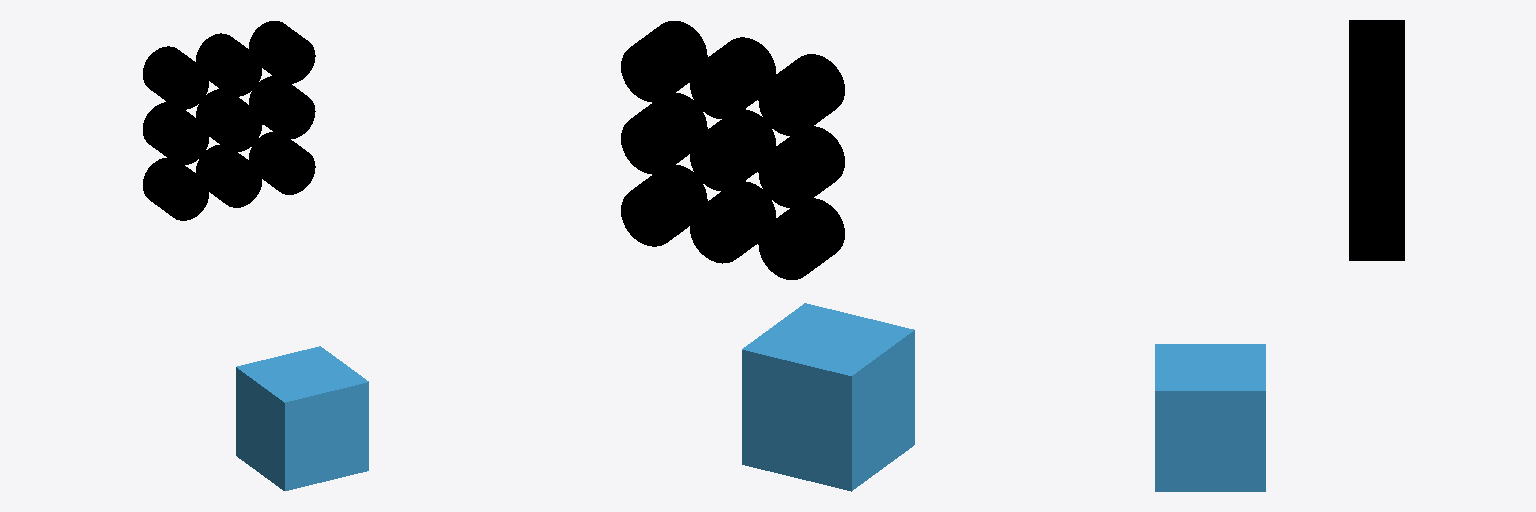
--- Render facts (derived) ---
3 views of the same robot in one strip: view 1: azimuth 30°, elevation 25°; view 2: azimuth 150°, elevation 25°; view 3: azimuth 270°, elevation 25° (orthographic).
Robot: ur5 — 21 links, 20 joints (15 revolute, 5 fixed); root link world; default pose: every joint at zero.
Links seen in each view (by area): view 1: camera_link, vacuum_gripper8, vacuum_gripper6, vacuum_gripper1, vacuum_gripper3, vacuum_gripper7, vacuum_gripper5, vacuum_gripper2, vacuum_gripper, vacuum_gripper4; view 2: camera_link, vacuum_gripper8, vacuum_gripper1, vacuum_gripper6, vacuum_gripper3, vacuum_gripper7, vacuum_gripper2, vacuum_gripper4, vacuum_gripper, vacuum_gripper5; view 3: camera_link, vacuum_gripper, vacuum_gripper5, vacuum_gripper7, vacuum_gripper8, vacuum_gripper3.
Boxes of the visible links, x1,y1,x2,y2 form: camera_link: (236,346,368,490); vacuum_gripper8: (143,46,208,109); vacuum_gripper6: (143,158,208,220); vacuum_gripper1: (143,102,208,164); vacuum_gripper3: (196,33,261,96); vacuum_gripper7: (249,21,315,83); vacuum_gripper5: (249,132,315,194); vacuum_gripper2: (196,145,261,207); vacuum_gripper: (249,76,315,138); vacuum_gripper4: (196,89,262,151); camera_link: (742,303,914,491); vacuum_gripper8: (758,54,844,135); vacuum_gripper1: (758,126,844,207); vacuum_gripper6: (758,198,844,279); vacuum_gripper3: (690,37,775,119); vacuum_gripper7: (621,21,707,102); vacuum_gripper2: (690,181,775,263); vacuum_gripper4: (690,109,775,191); vacuum_gripper: (621,93,707,174); vacuum_gripper5: (621,165,707,246); camera_link: (1155,344,1265,491); vacuum_gripper: (1349,142,1404,197); vacuum_gripper5: (1349,205,1404,260); vacuum_gripper7: (1349,79,1404,134); vacuum_gripper8: (1349,20,1404,49); vacuum_gripper3: (1349,50,1404,78).
Size in the robot's own frame: 0.035 by 0.045 by 0.0825 metres.
0 mesh visuals loaded from 7 distinct referenced files (none loaded); not drawn: 7 (reference not matched to a file when rendering).

URDF robot description (ur5):
<?xml version="1.0" encoding="utf-8"?>
<!-- =================================================================================== -->
<!-- |    This document was autogenerated by xacro from ur5_robot.urdf.xacro           | -->
<!-- |    EDITING THIS FILE BY HAND IS NOT RECOMMENDED                                 | -->
<!-- =================================================================================== -->
<robot name="ur5">
  <gazebo>
    <plugin filename="libgazebo_ros_control.so" name="ros_control">
      <!--robotNamespace>/</robotNamespace-->
      <!--robotSimType>gazebo_ros_control/DefaultRobotHWSim</robotSimType-->
    </plugin>
    <!--
    <plugin name="gazebo_ros_power_monitor_controller" filename="libgazebo_ros_power_monitor.so">
      <alwaysOn>true</alwaysOn>
      <updateRate>1.0</updateRate>
      <timeout>5</timeout>
      <powerStateTopic>power_state</powerStateTopic>
      <powerStateRate>10.0</powerStateRate>
      <fullChargeCapacity>87.78</fullChargeCapacity>     
      <dischargeRate>-474</dischargeRate>
      <chargeRate>525</chargeRate>
      <dischargeVoltage>15.52</dischargeVoltage>
      <chargeVoltage>16.41</chargeVoltage>
    </plugin>
-->
  </gazebo>
  <!-- camera_link -->
  <gazebo reference="camera_link">
    <mu1>0.2</mu1>
    <mu2>0.2</mu2>
    <material>Gazebo/Green</material>
  </gazebo>
  <!-- camera -->
  <gazebo reference="camera_link">
    <sensor name="camera1" type="depth">
      <update_rate>30.0</update_rate>
      <camera name="head">
        <horizontal_fov>1.7</horizontal_fov>
        <image>
          <width>1000</width>
          <height>1000</height>
          <format>R8G8B8</format>
        </image>
        <clip>
          <near>0.02</near>
          <far>400</far>
        </clip>
        <noise>
          <type>gaussian</type>
          <!-- Noise is sampled independently per pixel on each frame.
               That pixel's noise value is added to each of its color
               channels, which at that point lie in the range [0,1]. -->
          <mean>0.0</mean>
          <stddev>0.007</stddev>
        </noise>
      </camera>
      <plugin filename="libgazebo_ros_openni_kinect.so" name="camera_plugin">
        <baseline>0.2</baseline>
        <alwaysOn>true</alwaysOn>
        <!-- Keep this zero, update_rate in the parent <sensor> tag
            will control the frame rate. -->
        <updateRate>10.0</updateRate>
        <cameraName>camera_ir</cameraName>
        <imageTopicName>/camera/color/image_raw</imageTopicName>
        <cameraInfoTopicName>/camera/color/camera_info</cameraInfoTopicName>
        <depthImageTopicName>/camera/depth/image_raw</depthImageTopicName>
        <depthImageCameraInfoTopicName>/camera/depth/camera_info</depthImageCameraInfoTopicName>
        <pointCloudTopicName>/camera/depth/points</pointCloudTopicName>
        <frameName>camera_link_optical</frameName>
        <pointCloudCutoff>0.5</pointCloudCutoff>
        <pointCloudCutoffMax>3.0</pointCloudCutoffMax>
        <distortionK1>0</distortionK1>
        <distortionK2>0</distortionK2>
        <distortionK3>0</distortionK3>
        <distortionT1>0</distortionT1>
        <distortionT2>0</distortionT2>
        <CxPrime>0</CxPrime>
        <Cx>0</Cx>
        <Cy>0</Cy>
        <focalLength>0</focalLength>
        <hackBaseline>0</hackBaseline>
      </plugin>
    </sensor>
  </gazebo>

  <!-- camera_link -->
   <!-- measured from model -->
  <!--property name="shoulder_height" value="0.089159" /-->
  <!--property name="shoulder_offset" value="0.13585" /-->
  <!-- shoulder_offset - elbow_offset + wrist_1_length = 0.10915 -->
  <!--property name="upper_arm_length" value="0.42500" /-->
  <!--property name="elbow_offset" value="0.1197" /-->
  <!-- CAD measured -->
  <!--property name="forearm_length" value="0.39225" /-->
  <!--property name="wrist_1_length" value="0.093" /-->
  <!-- CAD measured -->
  <!--property name="wrist_2_length" value="0.09465" /-->
  <!-- In CAD this distance is 0.930, but in the spec it is 0.09465 -->
  <!--property name="wrist_3_length" value="0.0823" /-->
  <!-- manually measured -->
  <link name="base_link">
    <visual>
      <geometry>
        <mesh filename="package://ur5_description/meshes/ur5/visual/base.dae"/>
      </geometry>
      <material name="LightGrey">
        <color rgba="0.7 0.7 0.7 1.0"/>
      </material>
    </visual>
    <collision>
      <geometry>
        <mesh filename="package://ur5_description/meshes/ur5/collision/base.stl"/>
      </geometry>
    </collision>
    <inertial>
      <mass value="4.0"/>
      <origin rpy="0 0 0" xyz="0.0 0.0 0.0"/>
      <inertia ixx="0.00443333156" ixy="0.0" ixz="0.0" iyy="0.00443333156" iyz="0.0" izz="0.0072"/>
    </inertial>
  </link>
  <joint name="shoulder_pan_joint" type="revolute">
    <parent link="base_link"/>
    <child link="shoulder_link"/>
    <origin rpy="0.0 0.0 0.0" xyz="0.0 0.0 0.089159"/>
    <axis xyz="0 0 1"/>
    <limit effort="150.0" lower="-6.28318530718" upper="6.28318530718" velocity="3.15"/>
    <dynamics damping="0.0" friction="0.0"/>
  </joint>
  <link name="shoulder_link">
    <visual>
      <geometry>
        <mesh filename="package://ur5_description/meshes/ur5/visual/shoulder.dae"/>
      </geometry>
      <material name="LightGrey">
        <color rgba="0.7 0.7 0.7 1.0"/>
      </material>
    </visual>
    <collision>
      <geometry>
        <mesh filename="package://ur5_description/meshes/ur5/collision/shoulder.stl"/>
      </geometry>
    </collision>
    <inertial>
      <mass value="3.7"/>
      <origin rpy="0 0 0" xyz="0.0 0.0 0.0"/>
      <inertia ixx="0.010267495893" ixy="0.0" ixz="0.0" iyy="0.010267495893" iyz="0.0" izz="0.00666"/>
    </inertial>
  </link>
  <joint name="shoulder_lift_joint" type="revolute">
    <parent link="shoulder_link"/>
    <child link="upper_arm_link"/>
    <origin rpy="0.0 1.57079632679 0.0" xyz="0.0 0.13585 0.0"/>
    <axis xyz="0 1 0"/>
    <limit effort="150.0" lower="-6.28318530718" upper="6.28318530718" velocity="3.15"/>
    <dynamics damping="0.0" friction="0.0"/>
  </joint>
  <link name="upper_arm_link">
    <visual>
      <geometry>
        <mesh filename="package://ur5_description/meshes/ur5/visual/upperarm.dae"/>
      </geometry>
      <material name="LightGrey">
        <color rgba="0.7 0.7 0.7 1.0"/>
      </material>
    </visual>
    <collision>
      <geometry>
        <mesh filename="package://ur5_description/meshes/ur5/collision/upperarm.stl"/>
      </geometry>
    </collision>
    <inertial>
      <mass value="8.393"/>
      <origin rpy="0 0 0" xyz="0.0 0.0 0.28"/>
      <inertia ixx="0.22689067591" ixy="0.0" ixz="0.0" iyy="0.22689067591" iyz="0.0" izz="0.0151074"/>
    </inertial>
  </link>
  <joint name="elbow_joint" type="revolute">
    <parent link="upper_arm_link"/>
    <child link="forearm_link"/>
    <origin rpy="0.0 0.0 0.0" xyz="0.0 -0.1197 0.425"/>
    <axis xyz="0 1 0"/>
    <limit effort="150.0" lower="-3.14159265359" upper="3.14159265359" velocity="3.15"/>
    <dynamics damping="0.0" friction="0.0"/>
  </joint>
  <link name="forearm_link">
    <visual>
      <geometry>
        <mesh filename="package://ur5_description/meshes/ur5/visual/forearm.dae"/>
      </geometry>
      <material name="LightGrey">
        <color rgba="0.7 0.7 0.7 1.0"/>
      </material>
    </visual>
    <collision>
      <geometry>
        <mesh filename="package://ur5_description/meshes/ur5/collision/forearm.stl"/>
      </geometry>
    </collision>
    <inertial>
      <mass value="2.275"/>
      <origin rpy="0 0 0" xyz="0.0 0.0 0.25"/>
      <inertia ixx="0.049443313556" ixy="0.0" ixz="0.0" iyy="0.049443313556" iyz="0.0" izz="0.004095"/>
    </inertial>
  </link>
  <joint name="wrist_1_joint" type="revolute">
    <parent link="forearm_link"/>
    <child link="wrist_1_link"/>
    <origin rpy="0.0 1.57079632679 0.0" xyz="0.0 0.0 0.39225"/>
    <axis xyz="0 1 0"/>
    <limit effort="28.0" lower="-6.28318530718" upper="6.28318530718" velocity="3.2"/>
    <dynamics damping="0.0" friction="0.0"/>
  </joint>
  <link name="wrist_1_link">
    <visual>
      <geometry>
        <mesh filename="package://ur5_description/meshes/ur5/visual/wrist1.dae"/>
      </geometry>
      <material name="LightGrey">
        <color rgba="0.7 0.7 0.7 1.0"/>
      </material>
    </visual>
    <collision>
      <geometry>
        <mesh filename="package://ur5_description/meshes/ur5/collision/wrist1.stl"/>
      </geometry>
    </collision>
    <inertial>
      <mass value="1.219"/>
      <origin rpy="0 0 0" xyz="0.0 0.0 0.0"/>
      <inertia ixx="0.111172755531" ixy="0.0" ixz="0.0" iyy="0.111172755531" iyz="0.0" izz="0.21942"/>
    </inertial>
  </link>
  <joint name="wrist_2_joint" type="revolute">
    <parent link="wrist_1_link"/>
    <child link="wrist_2_link"/>
    <origin rpy="0.0 0.0 0.0" xyz="0.0 0.093 0.0"/>
    <axis xyz="0 0 1"/>
    <limit effort="28.0" lower="-6.28318530718" upper="6.28318530718" velocity="3.2"/>
    <dynamics damping="0.0" friction="0.0"/>
  </joint>
  <link name="wrist_2_link">
    <visual>
      <geometry>
        <mesh filename="package://ur5_description/meshes/ur5/visual/wrist2.dae"/>
      </geometry>
      <material name="LightGrey">
        <color rgba="0.7 0.7 0.7 1.0"/>
      </material>
    </visual>
    <collision>
      <geometry>
        <mesh filename="package://ur5_description/meshes/ur5/collision/wrist2.stl"/>
      </geometry>
    </collision>
    <inertial>
      <mass value="1.219"/>
      <origin rpy="0 0 0" xyz="0.0 0.0 0.0"/>
      <inertia ixx="0.111172755531" ixy="0.0" ixz="0.0" iyy="0.111172755531" iyz="0.0" izz="0.21942"/>
    </inertial>
  </link>
  <joint name="wrist_3_joint" type="revolute">
    <parent link="wrist_2_link"/>
    <child link="wrist_3_link"/>
    <origin rpy="0.0 0.0 0.0" xyz="0.0 0.0 0.09465"/>
    <axis xyz="0 1 0"/>
    <limit effort="28.0" lower="-6.28318530718" upper="6.28318530718" velocity="3.2"/>
    <dynamics damping="0.0" friction="0.0"/>
  </joint>
  <link name="wrist_3_link">
    <visual>
      <geometry>
        <mesh filename="package://ur5_description/meshes/ur5/visual/wrist3.dae"/>
      </geometry>
      <material name="LightGrey">
        <color rgba="0.7 0.7 0.7 1.0"/>
      </material>
    </visual>
    <collision>
      <geometry>
        <mesh filename="package://ur5_description/meshes/ur5/collision/wrist3.stl"/>
      </geometry>
    </collision>
    <inertial>
      <mass value="0.1879"/>
      <origin rpy="0 0 0" xyz="0.0 0.0 0.0"/>
      <inertia ixx="0.0171364731454" ixy="0.0" ixz="0.0" iyy="0.0171364731454" iyz="0.0" izz="0.033822"/>
    </inertial>
  </link>
  <joint name="ee_fixed_joint" type="fixed">
    <parent link="wrist_3_link"/>
    <child link="ee_link"/>
    <origin rpy="0.0 0.0 1.57079632679" xyz="0.0 0.0823 0.0"/>
  </joint>
  <link name="ee_link">
    <collision>
      <geometry>
        <box size="0.01 0.01 0.01"/>
      </geometry>
      <origin rpy="0 0 0" xyz="-0.01 0 0"/>
    </collision>
  </link>
  <link name="vacuum_gripper">
    <gravity>0</gravity>
    <visual>
      <origin rpy="0 0 0" xyz="0 0 0"/>
      <geometry>
        <cylinder length="0.01" radius="0.005"/>
      </geometry>
      <material name="transparent">
        <color rgba="0 0 0 0"/>
      </material>
    </visual>
    <inertial>
      <origin rpy="0 0 0" xyz="0.000000 0.000000 0.000000"/>
      <mass value="0.0001"/>
      <inertia ixx="1e-08" ixy="0" ixz="0" iyy="1e-08" iyz="0" izz="1e-08"/>
    </inertial>
  </link>
  <joint name="gripper_joint" type="revolute">
    <axis xyz="1 0 0"/>
    <parent link="ee_link"/>
    <child link="vacuum_gripper"/>
    <origin rpy="0 1.5708 0" xyz="0.01 0.0125 0"/>
    <limit effort="50" lower="0" upper="0" velocity="50"/>
    <dynamics damping="0.0" friction="10"/>
  </joint>
  <gazebo>
    <plugin filename="libgazebo_ros_vacuum_gripper.so" name="gazebo_ros_vacuum_gripper">
      <robotNamespace>/ur5/vacuum_gripper</robotNamespace>
      <bodyName>vacuum_gripper</bodyName>
      <topicName>grasping</topicName>
      <maxForce>50</maxForce>
      <maxDistance>0.05</maxDistance>
      <minDistance>0.01</minDistance>
    </plugin>
  </gazebo>
  <link name="vacuum_gripper1">
    <gravity>0</gravity>
    <visual>
      <origin rpy="0 0 0" xyz="0 0 0"/>
      <geometry>
        <cylinder length="0.01" radius="0.005"/>
      </geometry>
      <material name="transparent">
        <color rgba="0 0 0 0"/>
      </material>
    </visual>
    <inertial>
      <origin rpy="0 0 0" xyz="0.000000 0.000000 0.000000"/>
      <mass value="0.0001"/>
      <inertia ixx="1e-08" ixy="0" ixz="0" iyy="1e-08" iyz="0" izz="1e-08"/>
    </inertial>
  </link>
  <joint name="gripper_joint1" type="revolute">
    <axis xyz="1 0 0"/>
    <parent link="ee_link"/>
    <child link="vacuum_gripper1"/>
    <origin rpy="0 1.5708 0" xyz="0.01 -0.0125 0"/>
    <limit effort="50" lower="0" upper="0" velocity="50"/>
    <dynamics damping="0.0" friction="10"/>
  </joint>
  <gazebo>
    <plugin filename="libgazebo_ros_vacuum_gripper.so" name="gazebo_ros_vacuum_gripper1">
      <robotNamespace>/ur5/vacuum_gripper1</robotNamespace>
      <bodyName>vacuum_gripper1</bodyName>
      <topicName>grasping1</topicName>
      <maxForce>50</maxForce>
      <maxDistance>0.05</maxDistance>
      <minDistance>0.01</minDistance>
    </plugin>
  </gazebo>
  <link name="vacuum_gripper2">
    <gravity>0</gravity>
    <visual>
      <origin rpy="0 0 0" xyz="0 0 0"/>
      <geometry>
        <cylinder length="0.01" radius="0.005"/>
      </geometry>
      <material name="transparent">
        <color rgba="0 0 0 0"/>
      </material>
    </visual>
    <inertial>
      <origin rpy="0 0 0" xyz="0.000000 0.000000 0.000000"/>
      <mass value="0.0001"/>
      <inertia ixx="1e-08" ixy="0" ixz="0" iyy="1e-08" iyz="0" izz="1e-08"/>
    </inertial>
  </link>
  <joint name="gripper_joint2" type="revolute">
    <axis xyz="1 0 0"/>
    <parent link="ee_link"/>
    <child link="vacuum_gripper2"/>
    <origin rpy="0 1.5708 0" xyz="0.01 0 0.0125"/>
    <limit effort="50" lower="0" upper="0" velocity="50"/>
    <dynamics damping="0.0" friction="10"/>
  </joint>
  <gazebo>
    <plugin filename="libgazebo_ros_vacuum_gripper.so" name="gazebo_ros_vacuum_gripper2">
      <robotNamespace>/ur5/vacuum_gripper2</robotNamespace>
      <bodyName>vacuum_gripper2</bodyName>
      <topicName>grasping2</topicName>
      <maxForce>50</maxForce>
      <maxDistance>0.05</maxDistance>
      <minDistance>0.01</minDistance>
    </plugin>
  </gazebo>
  <link name="vacuum_gripper3">
    <gravity>0</gravity>
    <visual>
      <origin rpy="0 0 0" xyz="0 0 0"/>
      <geometry>
        <cylinder length="0.01" radius="0.005"/>
      </geometry>
      <material name="transparent">
        <color rgba="0 0 0 0"/>
      </material>
    </visual>
    <inertial>
      <origin rpy="0 0 0" xyz="0.000000 0.000000 0.000000"/>
      <mass value="0.0001"/>
      <inertia ixx="1e-08" ixy="0" ixz="0" iyy="1e-08" iyz="0" izz="1e-08"/>
    </inertial>
  </link>
  <joint name="gripper_joint3" type="revolute">
    <axis xyz="1 0 0"/>
    <parent link="ee_link"/>
    <child link="vacuum_gripper3"/>
    <origin rpy="0 1.5708 0" xyz="0.01 0 -0.0125"/>
    <limit effort="50" lower="0" upper="0" velocity="50"/>
    <dynamics damping="0.0" friction="10"/>
  </joint>
  <gazebo>
    <plugin filename="libgazebo_ros_vacuum_gripper.so" name="gazebo_ros_vacuum_gripper3">
      <robotNamespace>/ur5/vacuum_gripper3</robotNamespace>
      <bodyName>vacuum_gripper3</bodyName>
      <topicName>grasping2</topicName>
      <maxForce>50</maxForce>
      <maxDistance>0.05</maxDistance>
      <minDistance>0.01</minDistance>
    </plugin>
  </gazebo>
  <link name="vacuum_gripper4">
    <gravity>0</gravity>
    <visual>
      <origin rpy="0 0 0" xyz="0 0 0"/>
      <geometry>
        <cylinder length="0.01" radius="0.005"/>
      </geometry>
      <material name="transparent">
        <color rgba="0 0 0 0"/>
      </material>
    </visual>
    <inertial>
      <origin rpy="0 0 0" xyz="0.000000 0.000000 0.000000"/>
      <mass value="0.0001"/>
      <inertia ixx="1e-08" ixy="0" ixz="0" iyy="1e-08" iyz="0" izz="1e-08"/>
    </inertial>
  </link>
  <joint name="gripper_joint4" type="revolute">
    <axis xyz="1 0 0"/>
    <parent link="ee_link"/>
    <child link="vacuum_gripper4"/>
    <origin rpy="0 1.5708 0" xyz="0.01 0 0"/>
    <limit effort="50" lower="0" upper="0" velocity="50"/>
    <dynamics damping="0.0" friction="10"/>
  </joint>
  <gazebo>
    <plugin filename="libgazebo_ros_vacuum_gripper.so" name="gazebo_ros_vacuum_gripper4">
      <robotNamespace>/ur5/vacuum_gripper4</robotNamespace>
      <bodyName>vacuum_gripper4</bodyName>
      <topicName>grasping4</topicName>
      <maxForce>50</maxForce>
      <maxDistance>0.05</maxDistance>
      <minDistance>0.01</minDistance>
    </plugin>
  </gazebo>
  <link name="vacuum_gripper5">
    <gravity>0</gravity>
    <visual>
      <origin rpy="0 0 0" xyz="0 0 0"/>
      <geometry>
        <cylinder length="0.01" radius="0.005"/>
      </geometry>
      <material name="transparent">
        <color rgba="0 0 0 0"/>
      </material>
    </visual>
    <inertial>
      <origin rpy="0 0 0" xyz="0.000000 0.000000 0.000000"/>
      <mass value="0.0001"/>
      <inertia ixx="1e-08" ixy="0" ixz="0" iyy="1e-08" iyz="0" izz="1e-08"/>
    </inertial>
  </link>
  <joint name="gripper_joint5" type="revolute">
    <axis xyz="1 0 0"/>
    <parent link="ee_link"/>
    <child link="vacuum_gripper5"/>
    <origin rpy="0 1.5708 0" xyz="0.01 0.0125 0.0125"/>
    <limit effort="50" lower="0" upper="0" velocity="50"/>
    <dynamics damping="0.0" friction="10"/>
  </joint>
  <gazebo>
    <plugin filename="libgazebo_ros_vacuum_gripper.so" name="gazebo_ros_vacuum_gripper">
      <robotNamespace>/ur5/vacuum_gripper5</robotNamespace>
      <bodyName>vacuum_gripper5</bodyName>
      <topicName>grasping5</topicName>
      <maxForce>50</maxForce>
      <maxDistance>0.05</maxDistance>
      <minDistance>0.01</minDistance>
    </plugin>
  </gazebo>
  <link name="vacuum_gripper6">
    <gravity>0</gravity>
    <visual>
      <origin rpy="0 0 0" xyz="0 0 0"/>
      <geometry>
        <cylinder length="0.01" radius="0.005"/>
      </geometry>
      <material name="transparent">
        <color rgba="0 0 0 0"/>
      </material>
    </visual>
    <inertial>
      <origin rpy="0 0 0" xyz="0.000000 0.000000 0.000000"/>
      <mass value="0.0001"/>
      <inertia ixx="1e-08" ixy="0" ixz="0" iyy="1e-08" iyz="0" izz="1e-08"/>
    </inertial>
  </link>
  <joint name="gripper_joint6" type="revolute">
    <axis xyz="1 0 0"/>
    <parent link="ee_link"/>
    <child link="vacuum_gripper6"/>
    <origin rpy="0 1.5708 0" xyz="0.01 -0.0125 0.0125"/>
    <limit effort="50" lower="0" upper="0" velocity="50"/>
    <dynamics damping="0.0" friction="10"/>
  </joint>
  <gazebo>
    <plugin filename="libgazebo_ros_vacuum_gripper.so" name="gazebo_ros_vacuum_gripper1">
      <robotNamespace>/ur5/vacuum_gripper6</robotNamespace>
      <bodyName>vacuum_gripper6</bodyName>
      <topicName>grasping6</topicName>
      <maxForce>50</maxForce>
      <maxDistance>0.05</maxDistance>
      <minDistance>0.01</minDistance>
    </plugin>
  </gazebo>
  <link name="vacuum_gripper7">
    <gravity>0</gravity>
    <visual>
      <origin rpy="0 0 0" xyz="0 0 0"/>
      <geometry>
        <cylinder length="0.01" radius="0.005"/>
      </geometry>
      <material name="transparent">
        <color rgba="0 0 0 0"/>
      </material>
    </visual>
    <inertial>
      <origin rpy="0 0 0" xyz="0.000000 0.000000 0.000000"/>
      <mass value="0.0001"/>
      <inertia ixx="1e-08" ixy="0" ixz="0" iyy="1e-08" iyz="0" izz="1e-08"/>
    </inertial>
  </link>
  <joint name="gripper_joint7" type="revolute">
    <axis xyz="1 0 0"/>
    <parent link="ee_link"/>
    <child link="vacuum_gripper7"/>
    <origin rpy="0 1.5708 0" xyz="0.01 0.0125 -0.0125"/>
    <limit effort="50" lower="0" upper="0" velocity="50"/>
    <dynamics damping="0.0" friction="10"/>
  </joint>
  <gazebo>
    <plugin filename="libgazebo_ros_vacuum_gripper.so" name="gazebo_ros_vacuum_gripper7">
      <robotNamespace>/ur5/vacuum_gripper7</robotNamespace>
      <bodyName>vacuum_gripper7</bodyName>
      <topicName>grasping7</topicName>
      <maxForce>50</maxForce>
      <maxDistance>0.05</maxDistance>
      <minDistance>0.01</minDistance>
    </plugin>
  </gazebo>
  <link name="vacuum_gripper8">
    <gravity>0</gravity>
    <visual>
      <origin rpy="0 0 0" xyz="0 0 0"/>
      <geometry>
        <cylinder length="0.01" radius="0.005"/>
      </geometry>
      <material name="transparent">
        <color rgba="0 0 0 0"/>
      </material>
    </visual>
    <inertial>
      <origin rpy="0 0 0" xyz="0.000000 0.000000 0.000000"/>
      <mass value="0.0001"/>
      <inertia ixx="1e-08" ixy="0" ixz="0" iyy="1e-08" iyz="0" izz="1e-08"/>
    </inertial>
  </link>
  <joint name="gripper_joint8" type="revolute">
    <axis xyz="1 0 0"/>
    <parent link="ee_link"/>
    <child link="vacuum_gripper8"/>
    <origin rpy="0 1.5708 0" xyz="0.01 -0.0125 -0.0125"/>
    <limit effort="50" lower="0" upper="0" velocity="50"/>
    <dynamics damping="0.0" friction="10"/>
  </joint>
  <gazebo>
    <plugin filename="libgazebo_ros_vacuum_gripper.so" name="gazebo_ros_vacuum_gripper8">
      <robotNamespace>/ur5/vacuum_gripper8</robotNamespace>
      <bodyName>vacuum_gripper8</bodyName>
      <topicName>grasping8</topicName>
      <maxForce>50</maxForce>
      <maxDistance>0.05</maxDistance>
      <minDistance>0.01</minDistance>
    </plugin>
  </gazebo>
  <joint name="camera_joint" type="fixed">
    <axis xyz="0 1 0"/>
    <origin rpy="0 0 0" xyz="-0.02 0.0 0.055"/>
    <parent link="ee_link"/>
    <child link="camera_link"/>
  </joint>
  <!-- Camera -->
  <link name="camera_link">
    <collision>
      <origin rpy="0 0 0" xyz="0 0 0"/>
      <geometry>
        <box size="0.02 0.02 0.02"/>
      </geometry>
    </collision>
    <visual>
      <origin rpy="0 0 0" xyz="0 0 0"/>
      <geometry>
        <box size="0.02 0.02 0.02"/>
      </geometry>
      <material name="green"/>
    </visual>
    <inertial>
      <mass value="1e-5"/>
      <origin rpy="0 0 0" xyz="0 0 0"/>
      <inertia ixx="1e-6" ixy="0" ixz="0" iyy="1e-6" iyz="0" izz="1e-6"/>
    </inertial>
  </link>
  <!-- generate an optical frame http://www.ros.org/reps/rep-0103.html#suffix-frames
      so that ros and opencv can operate on the camera frame correctly -->
  <joint name="camera_optical_joint" type="fixed">
    <!-- these values have to be these values otherwise the gazebo camera image
        won't be aligned properly with the frame it is supposedly originating from -->
    <origin rpy="-1.57079632679 0 -1.57079632679" xyz="0 0 0"/>
    <parent link="camera_link"/>
    <child link="camera_link_optical"/>
  </joint>
  <link name="camera_link_optical">
  </link>
  <transmission name="shoulder_pan_trans">
    <type>transmission_interface/SimpleTransmission</type>
    <joint name="shoulder_pan_joint">
      <hardwareInterface>hardware_interface/EffortJointInterface</hardwareInterface>
    </joint>
    <actuator name="shoulder_pan_motor">
      <mechanicalReduction>1</mechanicalReduction>
    </actuator>
  </transmission>
  <transmission name="shoulder_lift_trans">
    <type>hardware_interface/EffortJointInterface</type>
    <joint name="shoulder_lift_joint">
      <hardwareInterface>hardware_interface/EffortJointInterface</hardwareInterface>
    </joint>
    <actuator name="shoulder_lift_motor">
      <mechanicalReduction>1</mechanicalReduction>
    </actuator>
  </transmission>
  <transmission name="elbow_trans">
    <type>hardware_interface/EffortJointInterface</type>
    <joint name="elbow_joint">
      <hardwareInterface>hardware_interface/EffortJointInterface</hardwareInterface>
    </joint>
    <actuator name="elbow_motor">
      <mechanicalReduction>1</mechanicalReduction>
    </actuator>
  </transmission>
  <transmission name="wrist_1_trans">
    <type>hardware_interface/EffortJointInterface</type>
    <joint name="wrist_1_joint">
      <hardwareInterface>hardware_interface/EffortJointInterface</hardwareInterface>
    </joint>
    <actuator name="wrist_1_motor">
      <mechanicalReduction>1</mechanicalReduction>
    </actuator>
  </transmission>
  <transmission name="wrist_2_trans">
    <type>hardware_interface/EffortJointInterface</type>
    <joint name="wrist_2_joint">
      <hardwareInterface>hardware_interface/EffortJointInterface</hardwareInterface>
    </joint>
    <actuator name="wrist_2_motor">
      <mechanicalReduction>1</mechanicalReduction>
    </actuator>
  </transmission>
  <transmission name="wrist_3_trans">
    <type>hardware_interface/EffortJointInterface</type>
    <joint name="wrist_3_joint">
      <hardwareInterface>hardware_interface/EffortJointInterface</hardwareInterface>
    </joint>
    <actuator name="wrist_3_motor">
      <mechanicalReduction>1</mechanicalReduction>
    </actuator>
  </transmission>
  <!-- nothing to do here at the moment -->
  <!-- ROS base_link to UR 'Base' Coordinates transform -->
  <link name="base"/>
  <joint name="base_link-base_fixed_joint" type="fixed">
    <!-- NOTE: this rotation is only needed as long as base_link itself is
                 not corrected wrt the real robot (ie: rotated over 180
                 degrees)
      -->
    <origin rpy="0 0 -3.14159265359" xyz="0 0 0"/>
    <parent link="base_link"/>
    <child link="base"/>
  </joint>
  <link name="world"/>
  <joint name="world_joint" type="fixed">
    <parent link="world"/>
    <child link="base_link"/>
    <origin rpy="0.0 0.0 0.0" xyz="0.0 0.0 0.0"/>
  </joint>
</robot>
